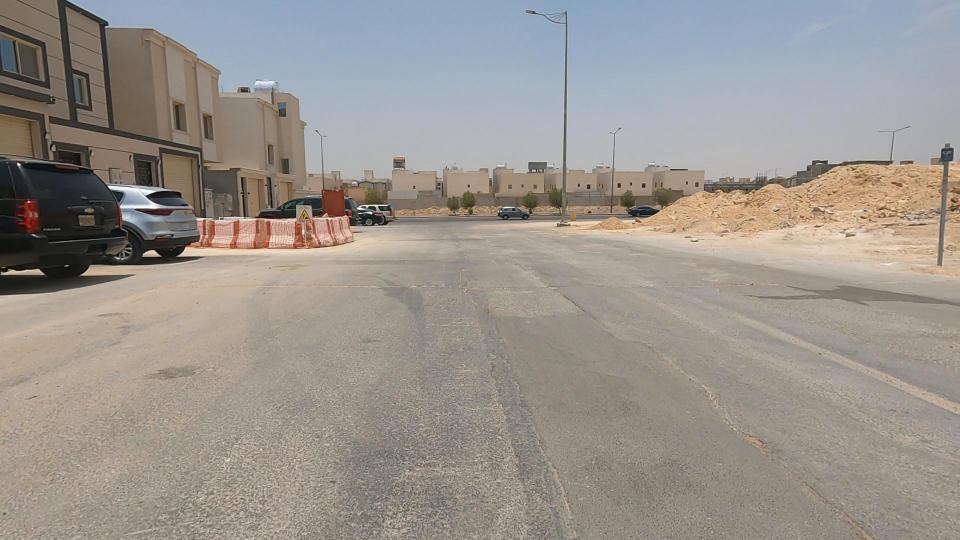CONSTRUCTION_ROAD: (152, 170, 426, 285)
GARBAGE: (645, 151, 815, 274), (539, 171, 707, 264)
